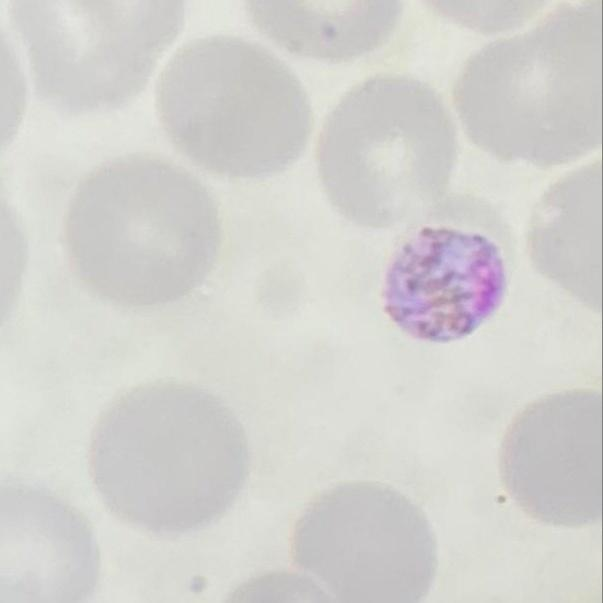Infected: (388, 201, 509, 340)
Uninfected: (88, 386, 249, 537), (65, 152, 219, 307), (462, 7, 603, 171), (155, 31, 307, 182), (10, 0, 179, 119), (318, 74, 454, 219), (295, 482, 434, 603), (505, 389, 603, 526), (0, 479, 97, 603)
